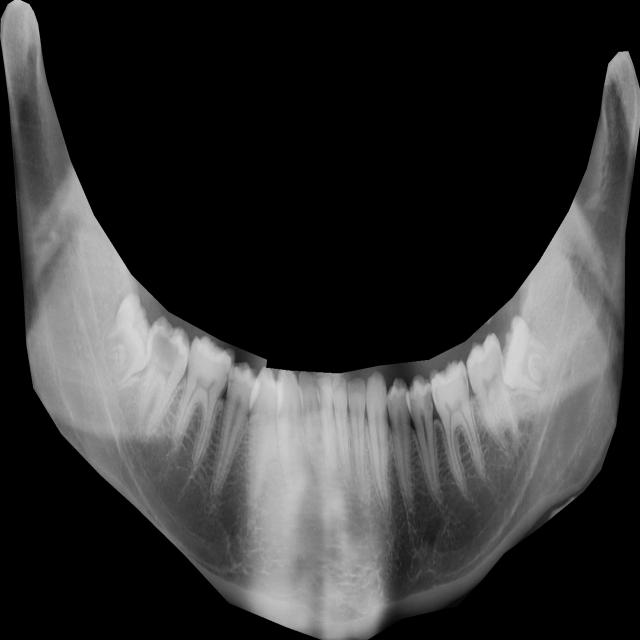mandibula: (0, 0, 640, 640)
